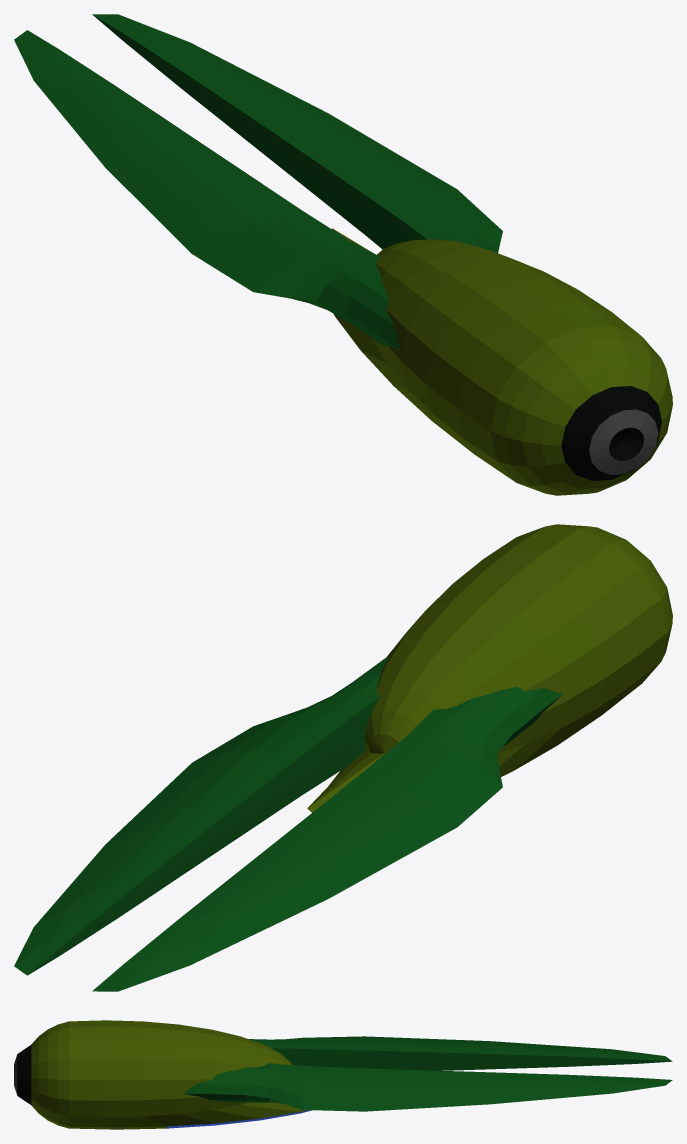
File: CurvySpaceship.fbx
The picture shows the model from 3 angles, top to bottom: view 1: azimuth 30°, elevation 25°; view 2: azimuth 150°, elevation 25°; view 3: azimuth 270°, elevation 25°; orthographic projection. The views are drawn at different scales.
Parts seen in each view (by area): view 1: Cube, Sphere; view 2: Cube, Sphere; view 3: Cube, Sphere.
Part boxes in pixels (x1,y1,x2,y2): Cube: (14, 14, 502, 350); Sphere: (332, 228, 672, 495); Cube: (14, 656, 562, 991); Sphere: (307, 524, 672, 812); Cube: (183, 1036, 672, 1111); Sphere: (14, 1020, 311, 1129).
Size of the model in its own units: 179 by 108 by 663.
